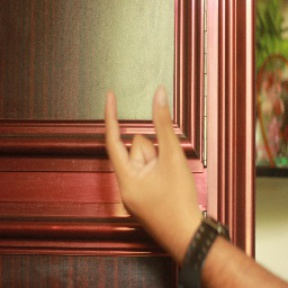U: (101, 80, 194, 235)
